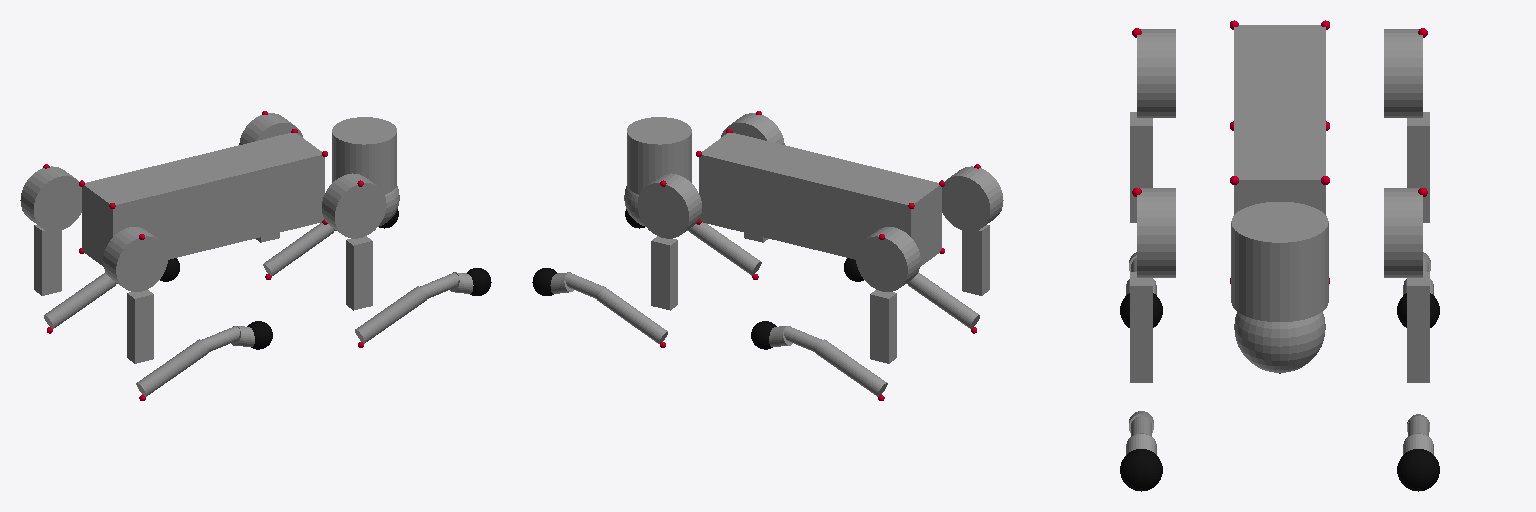
--- Render facts (derived) ---
Views: 3 orthographic renders of the robot side by side, from view 1: azimuth 30°, elevation 25°; view 2: azimuth 150°, elevation 25°; view 3: azimuth 270°, elevation 25°.
Model go2_description with 46 links and 45 joints (12 revolute, 33 fixed), rooted at base, posed all joints at 0 but 4 set to mid-range because 0 is outside their limits (FL_calf_joint = -1.78, FR_calf_joint = -1.78, RL_calf_joint = -1.78, RR_calf_joint = -1.78).
Links seen in each view (by area): view 1: base, Head_upper, RR_hip, FR_hip, RL_hip, RR_thigh, FR_thigh, RL_thigh, FR_calf, RR_calf, RL_calf, FL_calf (+1 smaller); view 2: base, Head_upper, RL_hip, FL_hip, RR_hip, RL_thigh, FL_thigh, RR_thigh, RL_calf, RR_calf, FR_calf, FL_calf (+2 smaller); view 3: base, Head_upper, Head_lower, FL_hip, FR_hip, RL_hip, RR_hip, FL_thigh, FR_thigh, RL_thigh, RR_thigh, FL_foot (+1 smaller).
Boxes of the visible links, left/top/right/bottom form: base: left=82, top=133, right=324, bottom=266; Head_upper: left=332, top=117, right=396, bottom=194; RR_hip: left=103, top=227, right=167, bottom=291; FR_hip: left=322, top=173, right=386, bottom=238; RL_hip: left=20, top=166, right=81, bottom=231; RR_thigh: left=127, top=290, right=153, bottom=363; FR_thigh: left=346, top=236, right=372, bottom=310; RL_thigh: left=34, top=225, right=61, bottom=295; FR_calf: left=355, top=286, right=426, bottom=343; RR_calf: left=136, top=339, right=208, bottom=396; RL_calf: left=44, top=272, right=115, bottom=328; FL_calf: left=263, top=222, right=333, bottom=275; base: left=699, top=133, right=941, bottom=266; Head_upper: left=627, top=117, right=691, bottom=194; RL_hip: left=856, top=227, right=920, bottom=291; FL_hip: left=637, top=173, right=701, bottom=238; RR_hip: left=942, top=166, right=1003, bottom=231; RL_thigh: left=870, top=290, right=896, bottom=363; FL_thigh: left=651, top=236, right=677, bottom=310; RR_thigh: left=962, top=225, right=989, bottom=295; RL_calf: left=815, top=339, right=887, bottom=396; RR_calf: left=908, top=272, right=979, bottom=328; FR_calf: left=689, top=222, right=761, bottom=275; FL_calf: left=597, top=288, right=667, bottom=343; base: left=1234, top=25, right=1325, bottom=214; Head_upper: left=1231, top=202, right=1328, bottom=321; Head_lower: left=1234, top=312, right=1325, bottom=372; FL_hip: left=1384, top=188, right=1422, bottom=277; FR_hip: left=1137, top=188, right=1175, bottom=277; RL_hip: left=1384, top=29, right=1422, bottom=117; RR_hip: left=1137, top=29, right=1175, bottom=117; FL_thigh: left=1407, top=272, right=1429, bottom=382; FR_thigh: left=1130, top=272, right=1152, bottom=382; RL_thigh: left=1407, top=112, right=1429, bottom=222; RR_thigh: left=1130, top=112, right=1152, bottom=222; FL_foot: left=1397, top=449, right=1439, bottom=491.
Size in the robot's own frame: 0.6636 by 0.328 by 0.2961 metres.
Geometry: primitives only (box / cylinder / sphere), no mesh files.

robot.urdf — go2_description:
<?xml version="1.0" encoding="utf-8"?>
<!-- With contact points at the elbow and the body corners -->
<robot
  name="go2_description">
  <material name="gray">
    <color rgba="0.4 0.4 0.4 1.0"/>
  </material>
  <material name="darkgray">
    <color rgba="0.1 0.1 0.1 1.0"/>
  </material>
  <material name="silver">
    <color rgba="0.6 0.6 0.6 1.0"/>
  </material>
  <material name="red">
    <color rgba="0.8 0.0 0.2 1.0"/>
  </material>
  <material name="green">
    <color rgba="0.2 0.8 0.0 1.0"/>
  </material>
  <link
    name="base">
    <inertial>
      <origin
        xyz="0.021112 0 -0.005366"
        rpy="0 0 0" />
      <mass
        value="6.921" />
      <inertia
        ixx="0.02448"
        ixy="0.00012166"
        ixz="0.0014849"
        iyy="0.098077"
        iyz="-3.12E-05"
        izz="0.107" />
    </inertial>
    <visual>
      <origin rpy="0 0 0" xyz="0 0 0" />
      <geometry>
        <box size="0.3762 0.0935 0.114" />
      </geometry>
      <material name="silver"/>
    </visual>
    <collision>
      <origin rpy="0 0 0" xyz="0 0 0" />
      <geometry>
        <box size="0.3762 0.0935 0.114" />
      </geometry>
    </collision>
  </link>

  <!-- body corners -->
  <joint
    name="base_corner1_joint"
    type="fixed" dont_collapse="true">
    <origin
      xyz="0.1881 0.04675 0.057"
      rpy="0 0 0" />
    <parent
      link="base"/>
    <child
      link="corner1" />
    <axis
      xyz="0 0 0" />
  </joint>
  <link name="corner1">
    <inertial>
      <origin xyz="0 0 0" rpy="0 0 0" />
      <mass value="0"/>
      <inertia ixx="0" ixy="0" ixz="0" iyy="0" iyz="0" izz="0"/>
    </inertial>
    <visual>
      <origin rpy="0 0 0" xyz="0 0 0" />
      <geometry>
        <sphere radius="0.005" />
      </geometry>
      <material name="red"/>
    </visual>
  </link>
  <joint
    name="base_corner2_joint"
    type="fixed" dont_collapse="true">
    <origin
      xyz="0.1881 -0.04675 0.057"
      rpy="0 0 0" />
    <parent
      link="base"/>
    <child
      link="corner2" />
    <axis
      xyz="0 0 0" />
  </joint>
  <link name="corner2">
    <inertial>
      <origin xyz="0 0 0" rpy="0 0 0" />
      <mass value="0"/>
      <inertia ixx="0" ixy="0" ixz="0" iyy="0" iyz="0" izz="0"/>
    </inertial>
    <visual>
      <origin rpy="0 0 0" xyz="0 0 0" />
      <geometry>
        <sphere radius="0.005" />
      </geometry>
      <material name="red"/>
    </visual>
  </link>
  <joint
    name="base_corner3_joint"
    type="fixed" dont_collapse="true">
    <origin
      xyz="0.1881 0.04675 -0.057"
      rpy="0 0 0" />
    <parent
      link="base"/>
    <child
      link="corner3" />
    <axis
      xyz="0 0 0" />
  </joint>
  <link name="corner3">
    <inertial>
      <origin xyz="0 0 0" rpy="0 0 0" />
      <mass value="0"/>
      <inertia ixx="0" ixy="0" ixz="0" iyy="0" iyz="0" izz="0"/>
    </inertial>
    <visual>
      <origin rpy="0 0 0" xyz="0 0 0" />
      <geometry>
        <sphere radius="0.005" />
      </geometry>
      <material name="red"/>
    </visual>
  </link>
  <joint
    name="base_corner4_joint"
    type="fixed" dont_collapse="true">
    <origin
      xyz="0.1881 -0.04675 -0.057"
      rpy="0 0 0" />
    <parent
      link="base"/>
    <child
      link="corner4" />
    <axis
      xyz="0 0 0" />
  </joint>
  <link name="corner4">
    <inertial>
      <origin xyz="0 0 0" rpy="0 0 0" />
      <mass value="0"/>
      <inertia ixx="0" ixy="0" ixz="0" iyy="0" iyz="0" izz="0"/>
    </inertial>
    <visual>
      <origin rpy="0 0 0" xyz="0 0 0" />
      <geometry>
        <sphere radius="0.005" />
      </geometry>
      <material name="red"/>
    </visual>
  </link>

  <joint
    name="base_corner5_joint"
    type="fixed" dont_collapse="true">
    <origin
      xyz="-0.1881 0.04675 0.057"
      rpy="0 0 0" />
    <parent
      link="base"/>
    <child
      link="corner5" />
    <axis
      xyz="0 0 0" />
  </joint>
  <link name="corner5">
    <inertial>
      <origin xyz="0 0 0" rpy="0 0 0" />
      <mass value="0"/>
      <inertia ixx="0" ixy="0" ixz="0" iyy="0" iyz="0" izz="0"/>
    </inertial>
    <visual>
      <origin rpy="0 0 0" xyz="0 0 0" />
      <geometry>
        <sphere radius="0.005" />
      </geometry>
      <material name="red"/>
    </visual>
  </link>
  <joint
    name="base_corner6_joint"
    type="fixed" dont_collapse="true">
    <origin
      xyz="-0.1881 -0.04675 0.057"
      rpy="0 0 0" />
    <parent
      link="base"/>
    <child
      link="corner6" />
    <axis
      xyz="0 0 0" />
  </joint>
  <link name="corner6">
    <inertial>
      <origin xyz="0 0 0" rpy="0 0 0" />
      <mass value="0"/>
      <inertia ixx="0" ixy="0" ixz="0" iyy="0" iyz="0" izz="0"/>
    </inertial>
    <visual>
      <origin rpy="0 0 0" xyz="0 0 0" />
      <geometry>
        <sphere radius="0.005" />
      </geometry>
      <material name="red"/>
    </visual>
  </link>
  <joint
    name="base_corner7_joint"
    type="fixed" dont_collapse="true">
    <origin
      xyz="-0.1881 0.04675 -0.057"
      rpy="0 0 0" />
    <parent
      link="base"/>
    <child
      link="corner7" />
    <axis
      xyz="0 0 0" />
  </joint>
  <link name="corner7">
    <inertial>
      <origin xyz="0 0 0" rpy="0 0 0" />
      <mass value="0"/>
      <inertia ixx="0" ixy="0" ixz="0" iyy="0" iyz="0" izz="0"/>
    </inertial>
    <visual>
      <origin rpy="0 0 0" xyz="0 0 0" />
      <geometry>
        <sphere radius="0.005" />
      </geometry>
      <material name="red"/>
    </visual>
  </link>
  <joint
    name="base_corner8_joint"
    type="fixed" dont_collapse="true">
    <origin
      xyz="-0.1881 -0.04675 -0.057"
      rpy="0 0 0" />
    <parent
      link="base"/>
    <child
      link="corner8" />
    <axis
      xyz="0 0 0" />
  </joint>
  <link name="corner8">
    <inertial>
      <origin xyz="0 0 0" rpy="0 0 0" />
      <mass value="0"/>
      <inertia ixx="0" ixy="0" ixz="0" iyy="0" iyz="0" izz="0"/>
    </inertial>
    <visual>
      <origin rpy="0 0 0" xyz="0 0 0" />
      <geometry>
        <sphere radius="0.005" />
      </geometry>
      <material name="red"/>
    </visual>
  </link>

  <!-- end body corners -->
  
  <link
    name="Head_upper">
    <inertial>
      <origin
        xyz="0 0 0"
        rpy="0 0 0" />
      <mass
        value="0.001" />
      <inertia
        ixx="9.6e-06"
        ixy="0"
        ixz="0"
        iyy="9.6e-06"
        iyz="0"
        izz="9.6e-06" />
    </inertial>
    <visual>
      <origin
        xyz="0 0 0"
        rpy="0 0 0" />
      <geometry>
        <cylinder radius="0.05" length="0.09" />
      </geometry>
      <material name="silver"/>
    </visual>
    <collision>
      <origin
        xyz="0 0 0"
        rpy="0 0 0" />
      <geometry>
        <cylinder radius="0.05" length="0.09" />
      </geometry>
    </collision>
  </link>
  <joint
    name="Head_upper_joint"
    type="fixed" dont_collapse="true">
    <origin
      xyz="0.285 0 0.01"
      rpy="0 0 0" />
    <parent
      link="base" />
    <child
      link="Head_upper" />
    <axis
      xyz="0 0 0" />
  </joint>
  <link
    name="Head_lower">
    <inertial>
      <origin
        xyz="0 0 0"
        rpy="0 0 0" />
      <mass
        value="0.001" />
      <inertia
        ixx="9.6e-06"
        ixy="0"
        ixz="0"
        iyy="9.6e-06"
        iyz="0"
        izz="9.6e-06" />
    </inertial>
    <visual>
      <origin
        xyz="0 0 0"
        rpy="0 0 0" />
      <geometry>
        <sphere radius="0.047" />
      </geometry>
      <material name="silver"/>
    </visual>
    <collision>
      <origin
        xyz="0 0 0"
        rpy="0 0 0" />
      <geometry>
        <sphere radius="0.047" />
      </geometry>
      <material name="silver"/>
    </collision>
  </link>

  <!-- head lower contact point -->
  <joint
    name="head_lower_cp0_joint"
    type="fixed" dont_collapse="true">
    <origin
      xyz="0 0 -0.047"
      rpy="0 0 0" />
    <parent
      link="Head_lower"/>
    <child
      link="cp0" />
    <axis
      xyz="0 0 0" />
  </joint>
  <link name="cp0">
    <inertial>
      <origin xyz="0 0 0" rpy="0 0 0" />
      <mass value="0"/>
      <inertia ixx="0" ixy="0" ixz="0" iyy="0" iyz="0" izz="0"/>
    </inertial>
    <visual>
      <origin rpy="0 0 0" xyz="0 0 0" />
      <geometry>
        <sphere radius="0.005" />
      </geometry>
      <material name="red"/>
    </visual>
  </link>

  <joint
    name="Head_lower_joint"
    type="fixed" dont_collapse="true">
    <origin
      xyz="0.008 0 -0.07"
      rpy="0 0 0" />
    <parent
      link="Head_upper" />
    <child
      link="Head_lower" />
    <axis
      xyz="0 0 0" />
  </joint>
  <link
    name="FL_hip">
    <inertial>
      <origin
        xyz="-0.0054 0.00194 -0.000105"
        rpy="0 0 0" />
      <mass
        value="0.678" />
      <inertia
        ixx="0.00048"
        ixy="-3.01E-06"
        ixz="1.11E-06"
        iyy="0.000884"
        iyz="-1.42E-06"
        izz="0.000596" />
    </inertial>
    <visual>
      <origin rpy="1.5707963267948966 0 0" xyz="0 0.08 0" />
      <geometry>
        <cylinder length="0.04" radius="0.046" />
      </geometry>
      <material name="silver"/>
    </visual>
    <collision>
      <origin rpy="1.5707963267948966 0 0" xyz="0 0.08 0" />
      <geometry>
        <cylinder length="0.04" radius="0.046" />
      </geometry>
    </collision>
  </link>
  
  <!-- hip contact point -->
  <joint
    name="FL_hip_cp1_joint"
    type="fixed" dont_collapse="true">
    <origin
      xyz="0 0.10 0.046"
      rpy="0 0 0" />
    <parent
      link="FL_hip"/>
    <child
      link="cp1" />
    <axis
      xyz="0 0 0" />
  </joint>
  <link name="cp1">
    <inertial>
      <origin xyz="0 0 0" rpy="0 0 0" />
      <mass value="0"/>
      <inertia ixx="0" ixy="0" ixz="0" iyy="0" iyz="0" izz="0"/>
    </inertial>
    <visual>
      <origin rpy="0 0 0" xyz="0 0 0" />
      <geometry>
        <sphere radius="0.005" />
      </geometry>
      <material name="red"/>
    </visual>
  </link>

  <joint
    name="FL_hip_joint"
    type="revolute">
    <origin
      xyz="0.1934 0.0465 0"
      rpy="0 0 0" />
    <parent
      link="base" />
    <child
      link="FL_hip" />
    <axis
      xyz="1 0 0" />
    <limit
      lower="-1.0472"
      upper="1.0472"
      effort="23.7"
      velocity="30.1" />
  </joint>
  <link
    name="FL_thigh">
    <inertial>
      <origin
        xyz="-0.00374 -0.0223 -0.0327"
        rpy="0 0 0" />
      <mass
        value="1.152" />
      <inertia
        ixx="0.00584"
        ixy="8.72E-05"
        ixz="-0.000289"
        iyy="0.0058"
        iyz="0.000808"
        izz="0.00103" />
    </inertial>
    <visual>
      <origin rpy="0 1.5707963267948966 0" xyz="0 0 -0.1065" />
      <geometry>
        <box size="0.11 0.0245 0.034" />
      </geometry>
      <material name="silver"/>
    </visual>
    <collision>
      <origin rpy="0 1.5707963267948966 0" xyz="0 0 -0.1065" />
      <geometry>
        <box size="0.11 0.0245 0.034" />
      </geometry>
    </collision>
  </link>
  <joint
    name="FL_thigh_joint"
    type="revolute">
    <origin
      xyz="0 0.0955 0"
      rpy="0 0 0" />
    <parent
      link="FL_hip" />
    <child
      link="FL_thigh" />
    <axis
      xyz="0 1 0" />
    <limit
      lower="-1.5708"
      upper="3.4907"
      effort="23.7"
      velocity="30.1" />
  </joint>
  <link
    name="FL_calf">
    <inertial>
      <origin
        xyz="0.00548 -0.000975 -0.115"
        rpy="0 0 0" />
      <mass
        value="0.154" />
      <inertia
        ixx="0.00108"
        ixy="3.4E-07"
        ixz="1.72E-05"
        iyy="0.0011"
        iyz="8.28E-06"
        izz="3.29E-05" />
    </inertial>
    <visual>
      <origin rpy="0 -0.21 0" xyz="0.008 0 -0.06" />
      <geometry>
        <cylinder length="0.12" radius="0.012" />
      </geometry>
      <material name="silver"/>
    </visual>
    <collision>
      <origin rpy="0 -0.21 0" xyz="0.008 0 -0.06" />
      <geometry>
        <cylinder length="0.12" radius="0.012" />
      </geometry>
    </collision>
  </link>

  <!-- calf contact point -->
  <joint
    name="FL_calf_cp5_joint"
    type="fixed" dont_collapse="true">
    <origin
      xyz="-0.0165 0 0"
      rpy="0 0 0" />
    <parent
      link="FL_calf"/>
    <child
      link="cp5" />
    <axis
      xyz="0 0 0" />
  </joint>
  <link name="cp5">
    <inertial>
      <origin xyz="0 0 0" rpy="0 0 0" />
      <mass value="0"/>
      <inertia ixx="0" ixy="0" ixz="0" iyy="0" iyz="0" izz="0"/>
    </inertial>
    <visual>
      <origin rpy="0 0 0" xyz="0 0 0" />
      <geometry>
        <sphere radius="0.005" />
      </geometry>
      <material name="red"/>
    </visual>
  </link>

  <joint
    name="FL_calf_joint"
    type="revolute">
    <origin
      xyz="0 0 -0.213"
      rpy="0 0 0" />
    <parent
      link="FL_thigh" />
    <child
      link="FL_calf" />
    <axis
      xyz="0 1 0" />
    <limit
      lower="-2.7227"
      upper="-0.83776"
      effort="45.43"
      velocity="15.70" />
  </joint>
  <link
    name="FL_calflower">
    <inertial>
      <origin xyz="0 0 0" rpy="0 0 0" />
      <mass value="0"/>
      <inertia ixx="0" ixy="0" ixz="0" iyy="0" iyz="0" izz="0"/>
    </inertial>
    <collision>
      <origin rpy="0 0 0" xyz="0 0 0" />
      <geometry>
        <cylinder length="0.065" radius="0.011" />
      </geometry>
    </collision>
    <visual>
      <origin rpy="0 0 0" xyz="0 0 0" />
      <geometry>
        <cylinder length="0.065" radius="0.011" />
      </geometry>
      <material name="silver"/>
    </visual>
  </link>
  <joint
    name="FL_calflower_joint"
    type="fixed">
    <origin
      xyz="0.020 0 -0.148"
      rpy="0 0.05 0" />
    <parent
      link="FL_calf" />
    <child
      link="FL_calflower" />
    <axis
      xyz="0 0 0" />
  </joint>
  <link
    name="FL_calflower1">
    <inertial>
      <origin xyz="0 0 0" rpy="0 0 0" />
      <mass value="0"/>
      <inertia ixx="0" ixy="0" ixz="0" iyy="0" iyz="0" izz="0"/>
    </inertial>
    <collision>
      <origin rpy="0 0 0" xyz="0 0 0" />
      <geometry>
        <cylinder length="0.03" radius="0.0155" />
      </geometry>
    </collision>
    <visual>
      <origin rpy="0 0 0" xyz="0 0 0" />
      <geometry>
        <cylinder length="0.03" radius="0.0155" />
      </geometry>
      <material name="silver"/>
    </visual>
  </link>
  <joint
    name="FL_calflower1_joint"
    type="fixed">
    <origin
      xyz="-0.01 0 -0.04"
      rpy="0 0.48 0" />
    <parent
      link="FL_calflower" />
    <child
      link="FL_calflower1" />
    <axis
      xyz="0 0 0" />
  </joint>
  <link
    name="FL_foot">
    <inertial>
      <origin
        xyz="0 0 0"
        rpy="0 0 0" />
      <mass
        value="0.04" />
      <inertia
        ixx="9.6e-06"
        ixy="0"
        ixz="0"
        iyy="9.6e-06"
        iyz="0"
        izz="9.6e-06" />
    </inertial>
    <visual>
      <origin rpy="0 0 0" xyz="-0.002 0 0" />
      <geometry>
        <sphere radius="0.022" />
      </geometry>
      <material name="darkgray"/>
    </visual>
    <collision>
      <origin rpy="0 0 0" xyz="-0.002 0 0" />
      <geometry>
        <sphere radius="0.022" />
      </geometry>
    </collision>
  </link>
  <joint
    name="FL_foot_joint"
    type="fixed" dont_collapse="true">
    <origin
      xyz="0 0 -0.213"
      rpy="0 0 0" />
    <parent
      link="FL_calf" />
    <child
      link="FL_foot" />
    <axis
      xyz="0 0 0" />
  </joint>
  <link
    name="FR_hip">
    <inertial>
      <origin
        xyz="-0.0054 -0.00194 -0.000105"
        rpy="0 0 0" />
      <mass
        value="0.678" />
      <inertia
        ixx="0.00048"
        ixy="3.01E-06"
        ixz="1.11E-06"
        iyy="0.000884"
        iyz="1.42E-06"
        izz="0.000596" />
    </inertial>
    <visual>
      <origin rpy="1.5707963267948966 0 0" xyz="0 -0.08 0" />
      <geometry>
        <cylinder length="0.04" radius="0.046" />
      </geometry>
      <material name="silver"/>
    </visual>
    <collision>
      <origin rpy="1.5707963267948966 0 0" xyz="0 -0.08 0" />
      <geometry>
        <cylinder length="0.04" radius="0.046" />
      </geometry>
    </collision>
  </link>

  <!-- hip contact point -->
  <joint
    name="FR_hip_cp2_joint"
    type="fixed" dont_collapse="true">
    <origin
      xyz="0 -0.1 0.046"
      rpy="0 0 0" />
    <parent
      link="FR_hip"/>
    <child
      link="cp2" />
    <axis
      xyz="0 0 0" />
  </joint>
  <link name="cp2">
    <inertial>
      <origin xyz="0 0 0" rpy="0 0 0" />
      <mass value="0"/>
      <inertia ixx="0" ixy="0" ixz="0" iyy="0" iyz="0" izz="0"/>
    </inertial>
    <visual>
      <origin rpy="0 0 0" xyz="0 0 0" />
      <geometry>
        <sphere radius="0.005" />
      </geometry>
      <material name="red"/>
    </visual>
  </link>

  <joint
    name="FR_hip_joint"
    type="revolute">
    <origin
      xyz="0.1934 -0.0465 0"
      rpy="0 0 0" />
    <parent
      link="base" />
    <child
      link="FR_hip" />
    <axis
      xyz="1 0 0" />
    <limit
      lower="-1.0472"
      upper="1.0472"
      effort="23.7"
      velocity="30.1" />
  </joint>
  <link
    name="FR_thigh">
    <inertial>
      <origin
        xyz="-0.00374 0.0223 -0.0327"
        rpy="0 0 0" />
      <mass
        value="1.152" />
      <inertia
        ixx="0.00584"
        ixy="-8.72E-05"
        ixz="-0.000289"
        iyy="0.0058"
        iyz="-0.000808"
        izz="0.00103" />
    </inertial>
    <visual>
      <origin rpy="0 1.5707963267948966 0" xyz="0 0 -0.1065" />
      <geometry>
        <box size="0.11 0.0245 0.034" />
      </geometry>
      <material name="silver"/>
    </visual>
    <collision>
      <origin rpy="0 1.5707963267948966 0" xyz="0 0 -0.1065" />
      <geometry>
        <box size="0.11 0.0245 0.034" />
      </geometry>
    </collision>
  </link>
  <joint
    name="FR_thigh_joint"
    type="revolute">
    <origin
      xyz="0 -0.0955 0"
      rpy="0 0 0" />
    <parent
      link="FR_hip" />
    <child
      link="FR_thigh" />
    <axis
      xyz="0 1 0" />
    <limit
      lower="-1.5708"
      upper="3.4907"
      effort="23.7"
      velocity="30.1" />
  </joint>
  <link
    name="FR_calf">
    <inertial>
      <origin
        xyz="0.00548 0.000975 -0.115"
        rpy="0 0 0" />
      <mass
        value="0.154" />
      <inertia
        ixx="0.00108"
        ixy="-3.4E-07"
        ixz="1.72E-05"
        iyy="0.0011"
        iyz="-8.28E-06"
        izz="3.29E-05" />
    </inertial>
    <visual>
      <origin rpy="0 -0.2 0" xyz="0.01 0 -0.06" />
      <geometry>
        <cylinder length="0.12" radius="0.013" />
      </geometry>
      <material name="silver"/>
    </visual>
    <collision>
      <origin rpy="0 -0.2 0" xyz="0.01 0 -0.06" />
      <geometry>
        <cylinder length="0.12" radius="0.013" />
      </geometry>
    </collision>
  </link>

  <!-- calf contact point -->
  <joint
    name="FR_calf_cp6_joint"
    type="fixed" dont_collapse="true">
    <origin
      xyz="-0.0165 0 0"
      rpy="0 0 0" />
    <parent
      link="FR_calf"/>
    <child
      link="cp6" />
    <axis
      xyz="0 0 0" />
  </joint>
  <link name="cp6">
    <inertial>
      <origin xyz="0 0 0" rpy="0 0 0" />
      <mass value="0"/>
      <inertia ixx="0" ixy="0" ixz="0" iyy="0" iyz="0" izz="0"/>
    </inertial>
    <visual>
      <origin rpy="0 0 0" xyz="0 0 0" />
      <geometry>
        <sphere radius="0.005" />
      </geometry>
      <material name="red"/>
    </visual>
  </link>

  <joint
    name="FR_calf_joint"
    type="revolute">
    <origin
      xyz="0 0 -0.213"
      rpy="0 0 0" />
    <parent
      link="FR_thigh" />
    <child
      link="FR_calf" />
    <axis
      xyz="0 1 0" />
    <limit
      lower="-2.7227"
      upper="-0.83776"
      effort="45.43"
      velocity="15.70" />
  </joint>
  <link
    name="FR_calflower">
    <inertial>
      <origin xyz="0 0 0" rpy="0 0 0" />
      <mass value="0"/>
      <inertia ixx="0" ixy="0" ixz="0" iyy="0" iyz="0" izz="0"/>
    </inertial>
    <collision>
      <origin rpy="0 0 0" xyz="0 0 0" />
      <geometry>
        <cylinder length="0.065" radius="0.011" />
      </geometry>
    </collision>
    <visual>
      <origin rpy="0 0 0" xyz="0 0 0" />
      <geometry>
        <cylinder length="0.065" radius="0.011" />
      </geometry>
      <material name="silver"/>
    </visual>
  </link>
  <joint
    name="FR_calflower_joint"
    type="fixed">
    <origin
      xyz="0.020 0 -0.148"
      rpy="0 0.05 0" />
    <parent
      link="FR_calf" />
    <child
      link="FR_calflower" />
    <axis
      xyz="0 0 0" />
  </joint>
  <link
    name="FR_calflower1">
    <inertial>
      <origin xyz="0 0 0" rpy="0 0 0" />
      <mass value="0"/>
      <inertia ixx="0" ixy="0" ixz="0" iyy="0" iyz="0" izz="0"/>
    </inertial>
    <collision>
      <origin rpy="0 0 0" xyz="0 0 0" />
      <geometry>
        <cylinder length="0.03" radius="0.0155" />
      </geometry>
    </collision>
    <visual>
      <origin rpy="0 0 0" xyz="0 0 0" />
      <geometry>
        <cylinder length="0.03" radius="0.0155" />
      </geometry>
      <material name="silver"/>
    </visual>
  </link>
  <joint
    name="FR_calflower1_joint"
    type="fixed">
    <origin
      xyz="-0.01 0 -0.04"
      rpy="0 0.48 0" />
    <parent
      link="FR_calflower" />
    <child
      link="FR_calflower1" />
    <axis
      xyz="0 0 0" />
  </joint>
  <link
    name="FR_foot">
    <inertial>
      <origin
        xyz="0 0 0"
        rpy="0 0 0" />
      <mass
        value="0.04" />
      <inertia
        ixx="9.6e-06"
        ixy="0"
        ixz="0"
        iyy="9.6e-06"
        iyz="0"
        izz="9.6e-06" />
    </inertial>
    <visual>
      <origin rpy="0 0 0" xyz="-0.002 0 0" />
      <geometry>
        <sphere radius="0.022" />
      </geometry>
      <material name="darkgray"/>
    </visual>
    <collision>
      <origin rpy="0 0 0" xyz="-0.002 0 0" />
      <geometry>
        <sphere radius="0.022" />
      </geometry>
    </collision>
  </link>
  <joint
    name="FR_foot_joint"
    type="fixed" dont_collapse="true">
    <origin
      xyz="0 0 -0.213"
      rpy="0 0 0" />
    <parent
      link="FR_calf" />
    <child
      link="FR_foot" />
    <axis
      xyz="0 0 0" />
  </joint>
  <link
    name="RL_hip">
    <inertial>
      <origin
        xyz="0.0054 0.00194 -0.000105"
        rpy="0 0 0" />
      <mass
        value="0.678" />
      <inertia
        ixx="0.00048"
        ixy="3.01E-06"
        ixz="-1.11E-06"
        iyy="0.000884"
        iyz="-1.42E-06"
        izz="0.000596" />
    </inertial>
    <visual>
      <origin rpy="1.5707963267948966 0 0" xyz="0 0.08 0" />
      <geometry>
        <cylinder length="0.04" radius="0.046" />
      </geometry>
      <material name="silver"/>
    </visual>
    <collision>
      <origin rpy="1.5707963267948966 0 0" xyz="0 0.08 0" />
      <geometry>
        <cylinder length="0.04" radius="0.046" />
      </geometry>
    </collision>
  </link>

  <!-- hip contact point -->
  <joint
    name="RL_hip_cp3_joint"
    type="fixed" dont_collapse="true">
    <origin
      xyz="0 0.10 0.046"
      rpy="0 0 0" />
    <parent
      link="RL_hip"/>
    <child
      link="cp3" />
    <axis
      xyz="0 0 0" />
  </joint>
  <link name="cp3">
    <inertial>
      <origin xyz="0 0 0" rpy="0 0 0" />
      <mass value="0"/>
      <inertia ixx="0" ixy="0" ixz="0" iyy="0" iyz="0" izz="0"/>
    </inertial>
    <visual>
      <origin rpy="0 0 0" xyz="0 0 0" />
      <geometry>
        <sphere radius="0.005" />
      </geometry>
      <material name="red"/>
    </visual>
  </link>

  <joint
    name="RL_hip_joint"
    type="revolute">
    <origin
      xyz="-0.1934 0.0465 0"
      rpy="0 0 0" />
    <parent
      link="base" />
    <child
      link="RL_hip" />
    <axis
      xyz="1 0 0" />
    <limit
      lower="-1.0472"
      upper="1.0472"
      effort="23.7"
      velocity="30.1" />
  </joint>
  <link
    name="RL_thigh">
    <inertial>
      <origin
        xyz="-0.00374 -0.0223 -0.0327"
        rpy="0 0 0" />
      <mass
        value="1.152" />
      <inertia
        ixx="0.00584"
        ixy="8.72E-05"
        ixz="-0.000289"
        iyy="0.0058"
        iyz="0.000808"
        izz="0.00103" />
    </inertial>
    <visual>
      <origin rpy="0 1.5707963267948966 0" xyz="0 0 -0.1065" />
      <geometry>
        <box size="0.11 0.0245 0.034" />
      </geometry>
      <material name="silver"/>
    </visual>
    <collision>
      <origin rpy="0 1.5707963267948966 0" xyz="0 0 -0.1065" />
      <geometry>
        <box size="0.11 0.0245 0.034" />
      </geometry>
    </collision>
  </link>
  <joint
    name="RL_thigh_joint"
    type="revolute">
    <origin
      xyz="0 0.0955 0"
      rpy="0 0 0" />
    <parent
      link="RL_hip" />
    <child
      link="RL_thigh" />
    <axis
      xyz="0 1 0" />
    <limit
      lower="-0.5236"
      upper="4.5379"
      effort="23.7"
      velocity="30.1" />
  </joint>
  <link
    name="RL_calf">
    <inertial>
      <origin
        xyz="0.00548 -0.000975 -0.115"
        rpy="0 0 0" />
      <mass
        value="0.154" />
      <inertia
        ixx="0.00108"
        ixy="3.4E-07"
        ixz="1.72E-05"
        iyy="0.0011"
        iyz="8.28E-06"
        izz="3.29E-05" />
    </inertial>
    <visual>
      <origin rpy="0 -0.2 0" xyz="0.01 0 -0.06" />
      <geometry>
        <cylinder length="0.12" radius="0.013" />
      </geometry>
      <material name="silver"/>
    </visual>
    <collision>
      <origin rpy="0 -0.2 0" xyz="0.01 0 -0.06" />
      <geometry>
        <cylinder length="0.12" radius="0.013" />
      </geometry>
    </collision>
  </link>

  <!-- calf contact point -->
  <joint
    name="RL_calf_cp7_joint"
    type="fixed" dont_collapse="true">
    <origin
      xyz="-0.0165 0 0"
      rpy="0 0 0" />
    <parent
      link="RL_calf"/>
    <child
      link="cp7" />
    <axis
      xyz="0 0 0" />
  </joint>
  <link name="cp7">
    <inertial>
      <origin xyz="0 0 0" rpy="0 0 0" />
      <mass value="0"/>
      <inertia ixx="0" ixy="0" ixz="0" iyy="0" iyz="0" izz="0"/>
    </inertial>
    <visual>
      <origin rpy="0 0 0" xyz="0 0 0" />
      <geometry>
        <sphere radius="0.005" />
      </geometry>
      <material name="red"/>
    </visual>
  </link>

  <joint
    name="RL_calf_joint"
    type="revolute">
    <origin
      xyz="0 0 -0.213"
      rpy="0 0 0" />
    <parent
      link="RL_thigh" />
    <child
      link="RL_calf" />
    <axis
      xyz="0 1 0" />
    <limit
      lower="-2.7227"
      upper="-0.83776"
      effort="45.43"
      velocity="15.70" />
  </joint>
  <link
    name="RL_calflower">
    <inertial>
      <origin xyz="0 0 0" rpy="0 0 0" />
      <mass value="0"/>
      <inertia ixx="0" ixy="0" ixz="0" iyy="0" iyz="0" izz="0"/>
    </inertial>
    <collision>
      <origin rpy="0 0 0" xyz="0 0 0" />
      <geometry>
        <cylinder length="0.065" radius="0.011" />
      </geometry>
    </collision>
    <visual>
      <origin rpy="0 0 0" xyz="0 0 0" />
      <geometry>
        <cylinder length="0.065" radius="0.011" />
      </geometry>
      <material name="silver"/>
    </visual>
  </link>
  <joint
    name="RL_calflower_joint"
    type="fixed">
    <origin
      xyz="0.020 0 -0.148"
      rpy="0 0.05 0" />
    <parent
      link="RL_calf" />
    <child
      link="RL_calflower" />
    <axis
      xyz="0 0 0" />
  </joint>
  <link
    name="RL_calflower1">
    <inertial>
      <origin xyz="0 0 0" rpy="0 0 0" />
      <mass value="0"/>
      <inertia ixx="0" ixy="0" ixz="0" iyy="0" iyz="0" izz="0"/>
    </inertial>
    <collision>
      <origin rpy="0 0 0" xyz="0 0 0" />
      <geometry>
        <cylinder length="0.03" radius="0.0155" />
      </geometry>
    </collision>
    <visual>
      <origin rpy="0 0 0" xyz="0 0 0" />
      <geometry>
        <cylinder length="0.03" radius="0.0155" />
      </geometry>
      <material name="silver"/>
    </visual>
  </link>
  <joint
    name="RL_calflower1_joint"
    type="fixed">
    <origin
      xyz="-0.01 0 -0.04"
      rpy="0 0.48 0" />
    <parent
      link="RL_calflower" />
    <child
      link="RL_calflower1" />
    <axis
      xyz="0 0 0" />
  </joint>
  <link
    name="RL_foot">
    <inertial>
      <origin
        xyz="0 0 0"
        rpy="0 0 0" />
      <mass
        value="0.04" />
      <inertia
        ixx="9.6e-06"
        ixy="0"
        ixz="0"
        iyy="9.6e-06"
        iyz="0"
        izz="9.6e-06" />
    </inertial>
    <visual>
      <origin rpy="0 0 0" xyz="-0.002 0 0" />
      <geometry>
        <sphere radius="0.022" />
      </geometry>
      <material name="darkgray"/>
    </visual>
    <collision>
      <origin rpy="0 0 0" xyz="-0.002 0 0" />
      <geometry>
        <sphere radius="0.022" />
      </geometry>
    </collision>
  </link>
  <joint
    name="RL_foot_joint"
    type="fixed" dont_collapse="true">
    <origin
      xyz="0 0 -0.213"
      rpy="0 0 0" />
    <parent
      link="RL_calf" />
    <child
      link="RL_foot" />
    <axis
      xyz="0 0 0" />
  </joint>
  <link
    name="RR_hip">
    <inertial>
      <origin
        xyz="0.0054 -0.00194 -0.000105"
        rpy="0 0 0" />
      <mass
        value="0.678" />
      <inertia
        ixx="0.00048"
        ixy="-3.01E-06"
        ixz="-1.11E-06"
        iyy="0.000884"
        iyz="1.42E-06"
        izz="0.000596" />
    </inertial>
    <visual>
      <origin rpy="1.5707963267948966 0 0" xyz="0 -0.08 0" />
      <geometry>
        <cylinder length="0.04" radius="0.046" />
      </geometry>
      <material name="silver"/>
    </visual>
    <collision>
      <origin rpy="1.5707963267948966 0 0" xyz="0 -0.08 0" />
      <geometry>
        <cylinder length="0.04" radius="0.046" />
      </geometry>
    </collision>
  </link>

  <!-- hip contact point -->
  <joint
    name="RR_hip_cp4_joint"
    type="fixed" dont_collapse="true">
    <origin
      xyz="0 -0.10 0.046"
      rpy="0 0 0" />
    <parent
      link="RR_hip"/>
    <child
      link="cp4" />
    <axis
      xyz="0 0 0" />
  </joint>
  <link name="cp4">
    <inertial>
      <origin xyz="0 0 0" rpy="0 0 0" />
      <mass value="0"/>
      <inertia ixx="0" ixy="0" ixz="0" iyy="0" iyz="0" izz="0"/>
    </inertial>
    <visual>
      <origin rpy="0 0 0" xyz="0 0 0" />
      <geometry>
        <sphere radius="0.005" />
      </geometry>
      <material name="red"/>
    </visual>
  </link>

  <joint
    name="RR_hip_joint"
    type="revolute">
    <origin
      xyz="-0.1934 -0.0465 0"
      rpy="0 0 0" />
    <parent
      link="base" />
    <child
      link="RR_hip" />
    <axis
      xyz="1 0 0" />
    <limit
      lower="-1.0472"
      upper="1.0472"
      effort="23.7"
      velocity="30.1" />
  </joint>
  <link
    name="RR_thigh">
    <inertial>
      <origin
        xyz="-0.00374 0.0223 -0.0327"
        rpy="0 0 0" />
      <mass
        value="1.152" />
      <inertia
        ixx="0.00584"
        ixy="-8.72E-05"
        ixz="-0.000289"
        iyy="0.0058"
        iyz="-0.000808"
        izz="0.00103" />
    </inertial>
    <visual>
      <origin rpy="0 1.5707963267948966 0" xyz="0 0 -0.1065" />
      <geometry>
        <box size="0.11 0.0245 0.034" />
      </geometry>
      <material name="silver"/>
    </visual>
    <collision>
      <origin rpy="0 1.5707963267948966 0" xyz="0 0 -0.1065" />
      <geometry>
        <box size="0.11 0.0245 0.034" />
      </geometry>
    </collision>
  </link>
  <joint
    name="RR_thigh_joint"
    type="revolute">
    <origin
      xyz="0 -0.0955 0"
      rpy="0 0 0" />
    <parent
      link="RR_hip" />
    <child
      link="RR_thigh" />
    <axis
      xyz="0 1 0" />
    <limit
      lower="-0.5236"
      upper="4.5379"
      effort="23.7"
      velocity="30.1" />
  </joint>
  <link
    name="RR_calf">
    <inertial>
      <origin
        xyz="0.00548 0.000975 -0.115"
        rpy="0 0 0" />
      <mass
        value="0.154" />
      <inertia
        ixx="0.00108"
        ixy="-3.4E-07"
        ixz="1.72E-05"
        iyy="0.0011"
        iyz="-8.28E-06"
        izz="3.29E-05" />
    </inertial>
    <visual>
      <origin rpy="0 -0.2 0" xyz="0.01 0 -0.06" />
      <geometry>
        <cylinder length="0.12" radius="0.013" />
      </geometry>
      <material name="silver"/>
    </visual>
    <collision>
      <origin rpy="0 -0.2 0" xyz="0.01 0 -0.06" />
      <geometry>
        <cylinder length="0.12" radius="0.013" />
      </geometry>
    </collision>
  </link>

  <!-- calf contact point -->
  <joint
    name="RR_calf_cp8_joint"
    type="fixed" dont_collapse="true">
    <origin
      xyz="-0.0165 0 0"
      rpy="0 0 0" />
    <parent
      link="RR_calf"/>
    <child
      link="cp8" />
    <axis
      xyz="0 0 0" />
  </joint>
  <link name="cp8">
    <inertial>
      <origin xyz="0 0 0" rpy="0 0 0" />
      <mass value="0"/>
      <inertia ixx="0" ixy="0" ixz="0" iyy="0" iyz="0" izz="0"/>
    </inertial>
    <visual>
      <origin rpy="0 0 0" xyz="0 0 0" />
      <geometry>
        <sphere radius="0.005" />
      </geometry>
      <material name="red"/>
    </visual>
  </link>

  <joint
    name="RR_calf_joint"
    type="revolute">
    <origin
      xyz="0 0 -0.213"
      rpy="0 0 0" />
    <parent
      link="RR_thigh" />
    <child
      link="RR_calf" />
    <axis
      xyz="0 1 0" />
    <limit
      lower="-2.7227"
      upper="-0.83776"
      effort="45.43"
      velocity="15.70" />
  </joint>
  <link
    name="RR_calflower">
    <inertial>
      <origin xyz="0 0 0" rpy="0 0 0" />
      <mass value="0"/>
      <inertia ixx="0" ixy="0" ixz="0" iyy="0" iyz="0" izz="0"/>
    </inertial>
    <collision>
      <origin rpy="0 0 0" xyz="0 0 0" />
      <geometry>
        <cylinder length="0.065" radius="0.011" />
      </geometry>
    </collision>
    <visual>
      <origin rpy="0 0 0" xyz="0 0 0" />
      <geometry>
        <cylinder length="0.065" radius="0.011" />
      </geometry>
      <material name="silver"/>
    </visual>
  </link>
  <joint
    name="RR_calflower_joint"
    type="fixed">
    <origin
      xyz="0.020 0 -0.148"
      rpy="0 0.05 0" />
    <parent
      link="RR_calf" />
    <child
      link="RR_calflower" />
    <axis
      xyz="0 0 0" />
  </joint>
  <link
    name="RR_calflower1">
    <inertial>
      <origin xyz="0 0 0" rpy="0 0 0" />
      <mass value="0"/>
      <inertia ixx="0" ixy="0" ixz="0" iyy="0" iyz="0" izz="0"/>
    </inertial>
    <collision>
      <origin rpy="0 0 0" xyz="0 0 0" />
      <geometry>
        <cylinder length="0.03" radius="0.0155" />
      </geometry>
    </collision>
    <visual>
      <origin rpy="0 0 0" xyz="0 0 0" />
      <geometry>
        <cylinder length="0.03" radius="0.0155" />
      </geometry>
      <material name="silver"/>
    </visual>
  </link>
  <joint
    name="RR_calflower1_joint"
    type="fixed">
    <origin
      xyz="-0.01 0 -0.04"
      rpy="0 0.48 0" />
    <parent
      link="RR_calflower" />
    <child
      link="RR_calflower1" />
    <axis
      xyz="0 0 0" />
  </joint>
  <link
    name="RR_foot">
    <inertial>
      <origin
        xyz="0 0 0"
        rpy="0 0 0" />
      <mass
        value="0.04" />
      <inertia
        ixx="9.6e-06"
        ixy="0"
        ixz="0"
        iyy="9.6e-06"
        iyz="0"
        izz="9.6e-06" />
    </inertial>
    <visual>
      <origin rpy="0 0 0" xyz="-0.002 0 0" />
      <geometry>
        <sphere radius="0.022" />
      </geometry>
      <material name="darkgray"/>
    </visual>
    <collision>
      <origin rpy="0 0 0" xyz="-0.002 0 0" />
      <geometry>
        <sphere radius="0.022" />
      </geometry>
    </collision>
  </link>
  <joint
    name="RR_foot_joint"
    type="fixed" dont_collapse="true">
    <origin
      xyz="0 0 -0.213"
      rpy="0 0 0" />
    <parent
      link="RR_calf" />
    <child
      link="RR_foot" />
    <axis
      xyz="0 0 0" />
  </joint>
  <link
    name="imu">
    <inertial>
      <origin
        xyz="0 0 0"
        rpy="0 0 0" />
      <mass
        value="0" />
      <inertia
        ixx="0"
        ixy="0"
        ixz="0"
        iyy="0"
        iyz="0"
        izz="0" />
    </inertial>
  </link>
  <joint
    name="imu_joint"
    type="fixed">
    <origin
      xyz="-0.02557 0 0.04232"
      rpy="0 0 0" />
    <parent
      link="base" />
    <child
      link="imu" />
    <axis
      xyz="0 0 0" />
  </joint>
  <link
    name="radar">
    <inertial>
      <origin
        xyz="0 0 0"
        rpy="0 0 0" />
      <mass
        value="0" />
      <inertia
        ixx="0"
        ixy="0"
        ixz="0"
        iyy="0"
        iyz="0"
        izz="0" />
    </inertial>
  </link>
  <joint
    name="radar_joint"
    type="fixed">
    <origin
      xyz="0.28945 0 -0.046825"
      rpy="0 2.8782 0" />
    <parent
      link="base" />
    <child
      link="radar" />
    <axis
      xyz="0 0 0" />
  </joint>
</robot>
